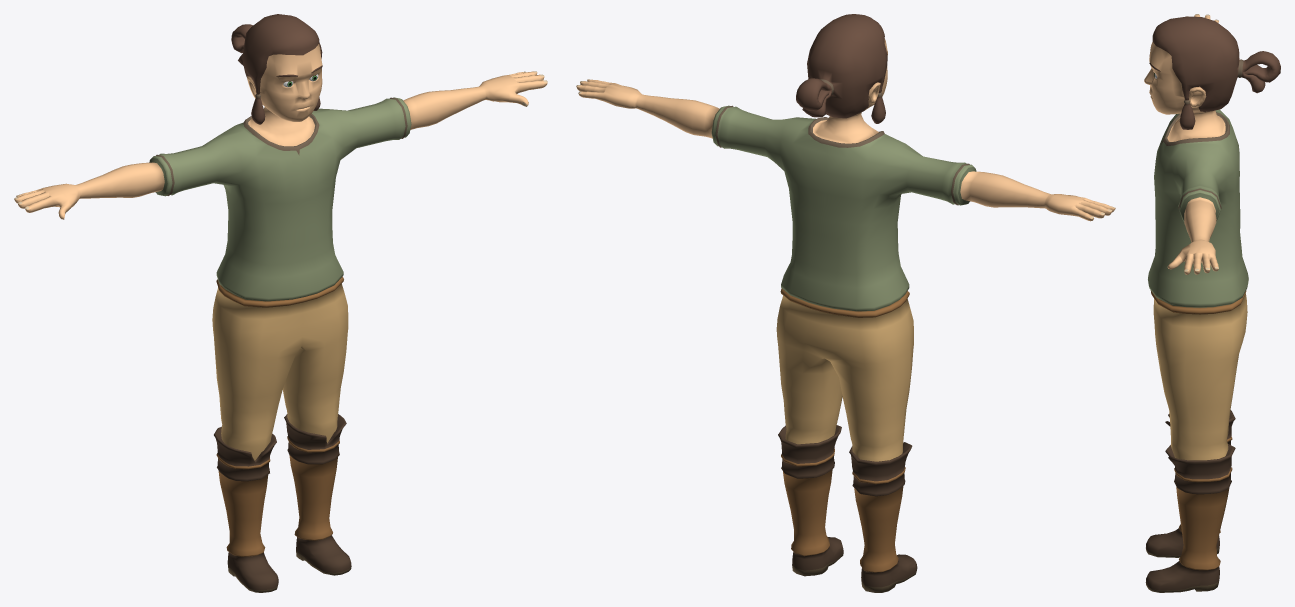
File: TexturedAlyaPlayerModel - Copy.fbx
3 views of the same model, side by side, from view 1: azimuth 30°, elevation 25°; view 2: azimuth 150°, elevation 25°; view 3: azimuth 270°, elevation 25° (orthographic).
Visible parts, largest first — view 1: Cube; view 2: Cube; view 3: Cube.
Boxes of the visible parts, box(x1,y1,x2,y2) form: Cube: box(14, 14, 547, 592); Cube: box(576, 14, 1115, 592); Cube: box(1144, 14, 1280, 592).
Bounding box in the file's own units: 185 × 184 × 41.58.
1 material, 1 textured.
